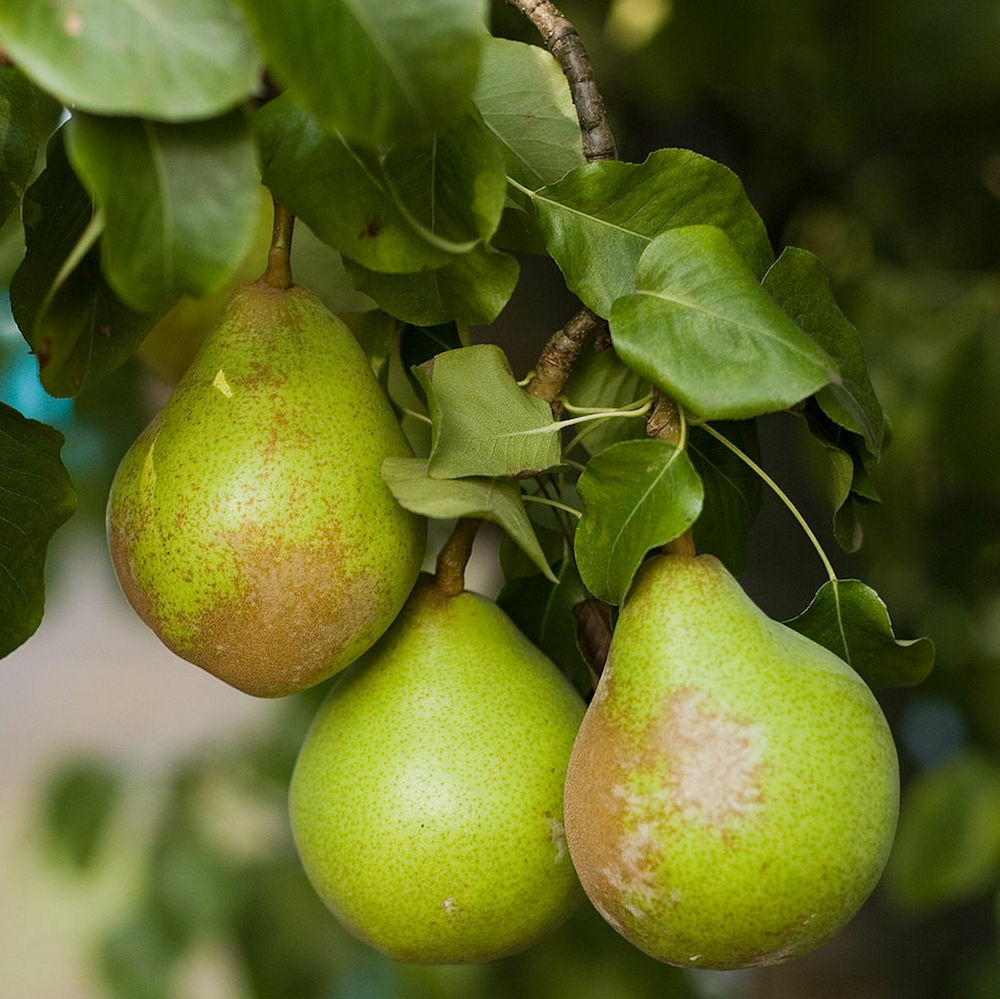pear: (566, 545, 896, 967), (100, 281, 420, 699), (286, 593, 590, 962)
